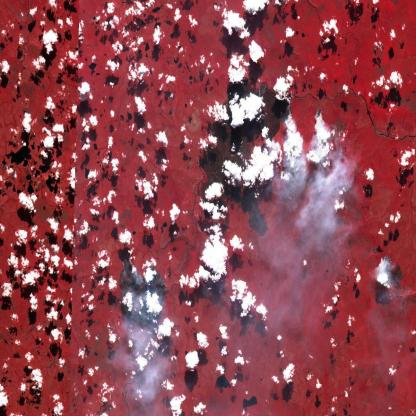fire: (276, 85, 342, 155), (112, 261, 170, 323), (373, 248, 406, 286)
